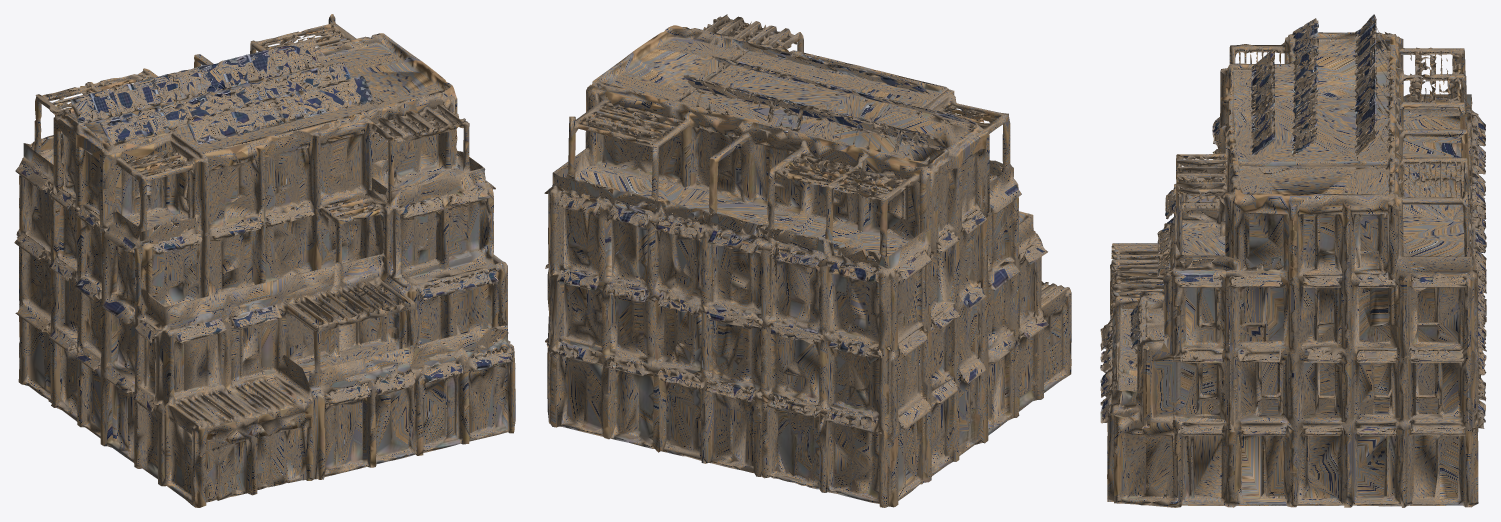
File: extra_lod1.glb
3 renders of one model, left to right at view 1: azimuth 30°, elevation 25°; view 2: azimuth 150°, elevation 25°; view 3: azimuth 270°, elevation 25°, orthographic. The views are drawn at different scales.
Bounding box in the file's own units: 2 × 1.76 × 1.86.
Materials: 1 (1 with a texture image).
